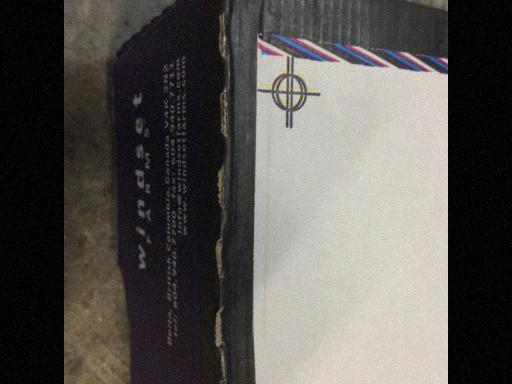cardboard: (29, 4, 446, 382)
paper: (0, 4, 450, 381)
